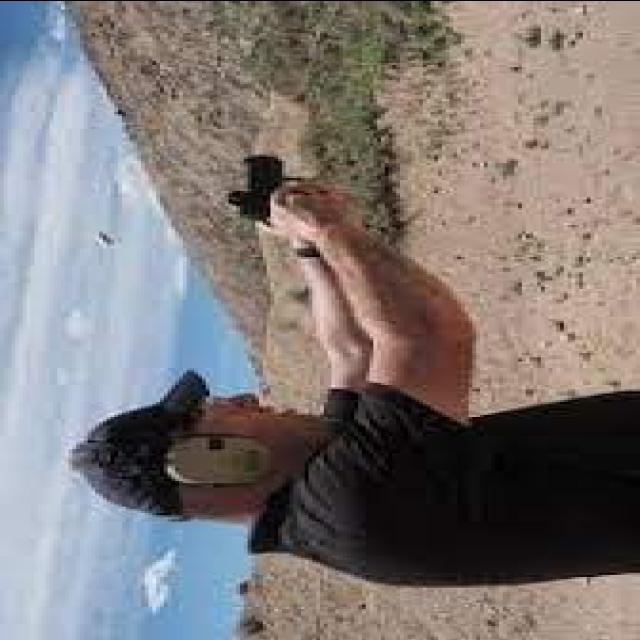weapons: (192, 134, 356, 242)
